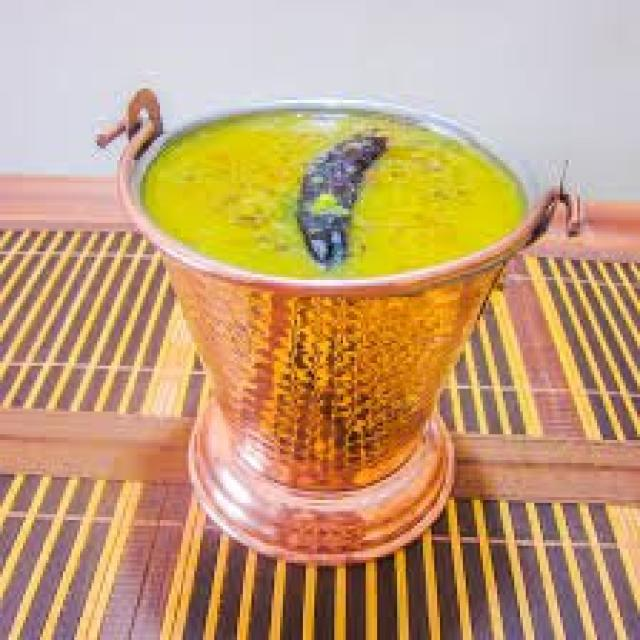dal: (166, 124, 504, 269)
